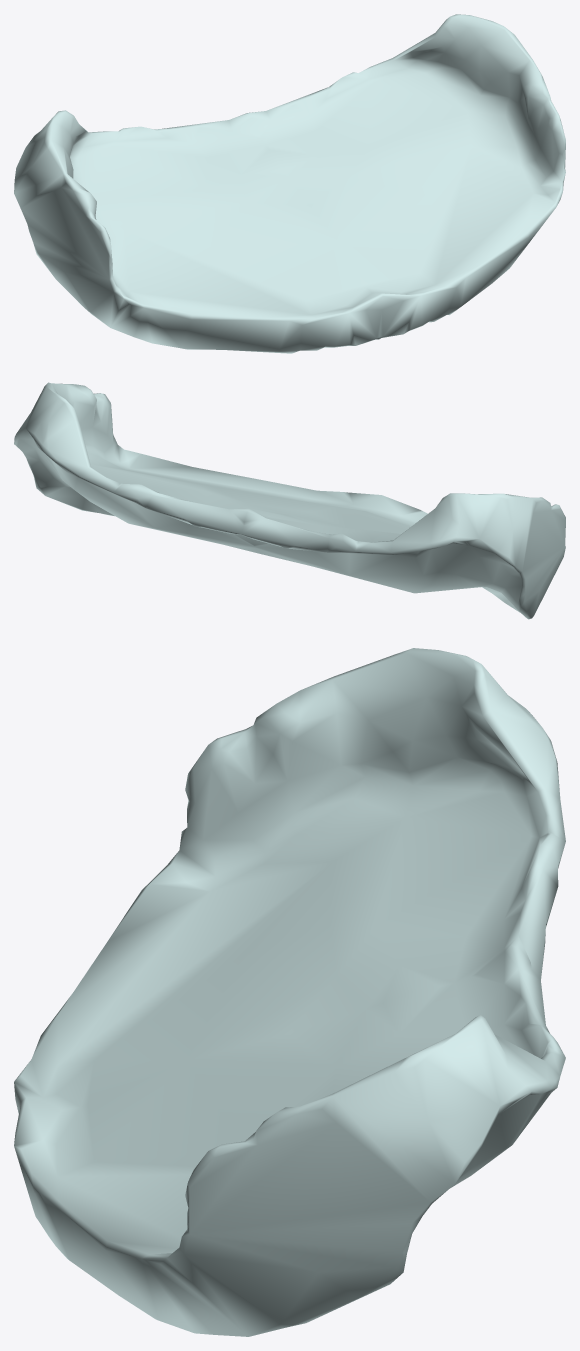
The model's file is Intervertebral_disc_C7-T1_Generated_Mesh_From_X3D.092.glb.
The picture shows the model from 3 angles, top to bottom: view 1: azimuth 30°, elevation 25°; view 2: azimuth 150°, elevation 25°; view 3: azimuth 270°, elevation 25°; orthographic projection. The views are drawn at different scales.
Parts seen in each view (by area): view 1: Intervertebral_disc_C7-T1_Generated_Mesh_From_X3D.092; view 2: Intervertebral_disc_C7-T1_Generated_Mesh_From_X3D.092; view 3: Intervertebral_disc_C7-T1_Generated_Mesh_From_X3D.092.
Part boxes in pixels (<box>): Intervertebral_disc_C7-T1_Generated_Mesh_From_X3D.092: <box>14,14,565,353</box>; Intervertebral_disc_C7-T1_Generated_Mesh_From_X3D.092: <box>14,382,565,619</box>; Intervertebral_disc_C7-T1_Generated_Mesh_From_X3D.092: <box>14,648,565,1336</box>.
Bounding box in the file's own units: 0.034 × 0.0122 × 0.0177.
